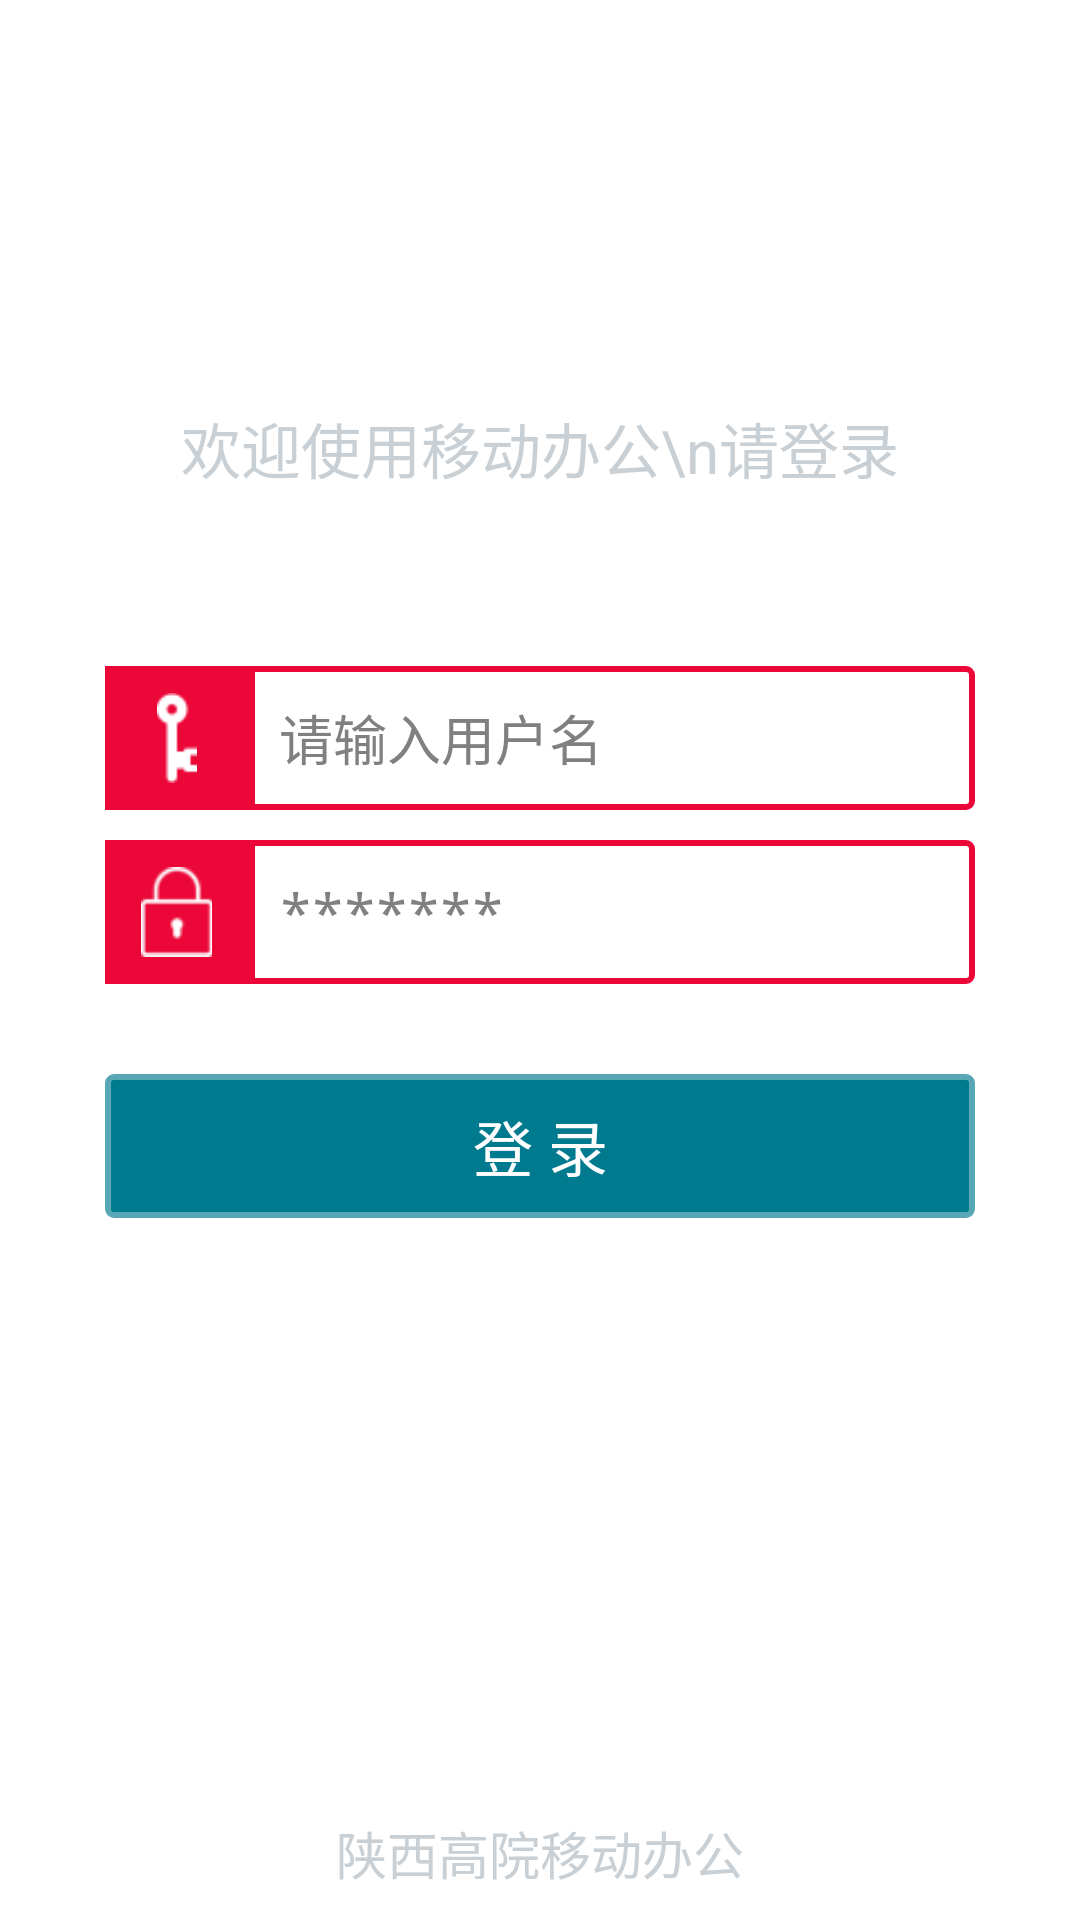

Icons on this 1080*1920 Android screen, each with the point to tap as point (x, y):
login lock: point (176, 912)
